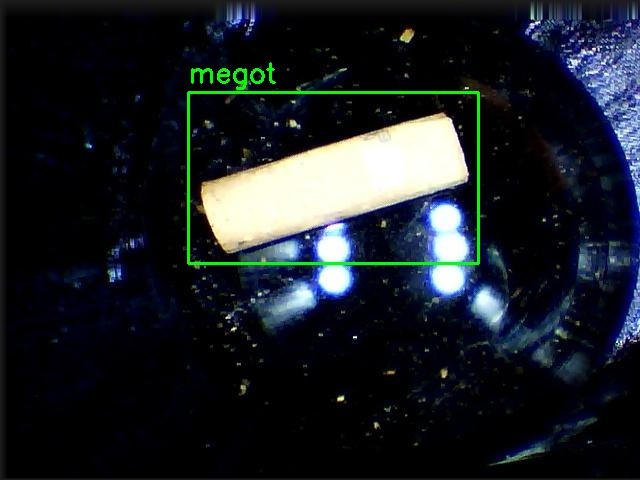megot: (188, 92, 478, 263)
